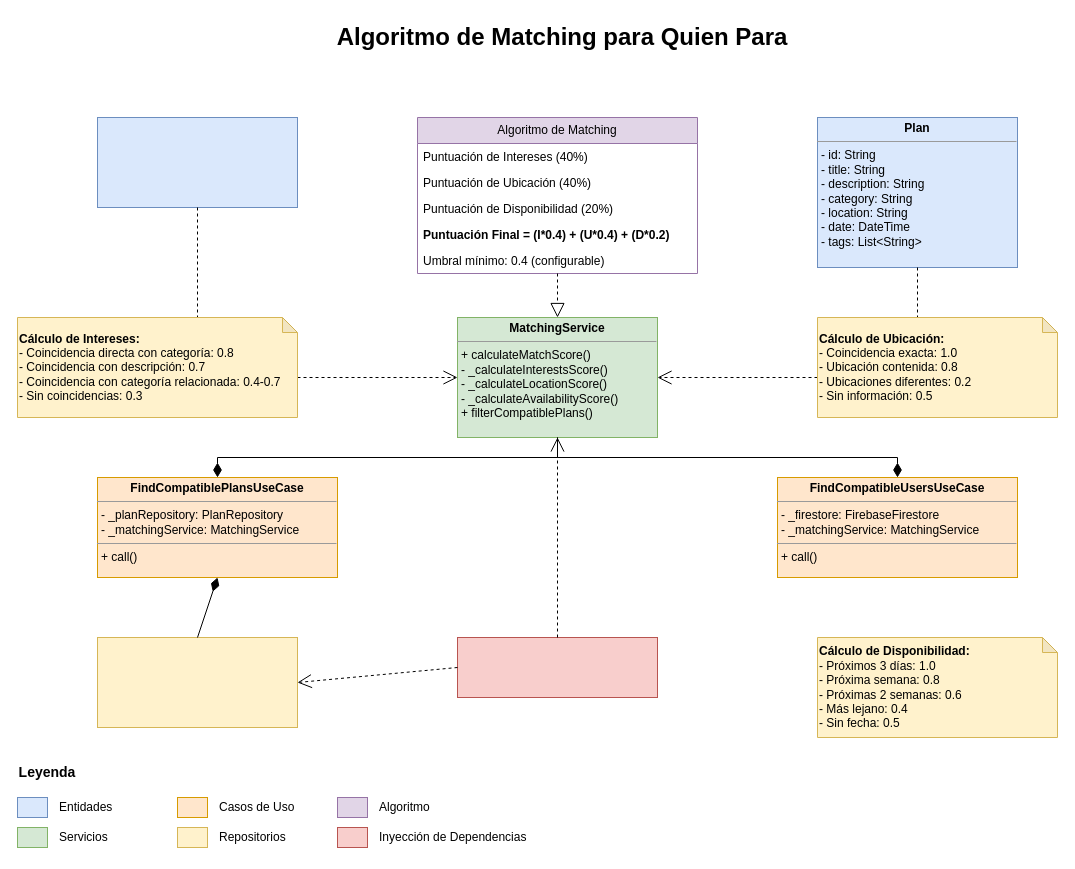
Some shapes in this 1075 by 869 pixel diagram are drawn without their labels. Each missing label, with the centre of its shape:
"<<interface>> PlanRepository + getPlans() + getById()" goes at (197,682).
"Inyección de Dependencias registerMatchingDependencies()" goes at (557,667).
"Usuario - id: String - interests: List<String> - location: String" goes at (197,162).
